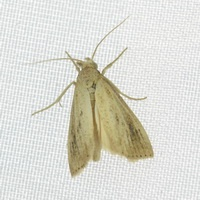insect: (32, 16, 153, 175)
